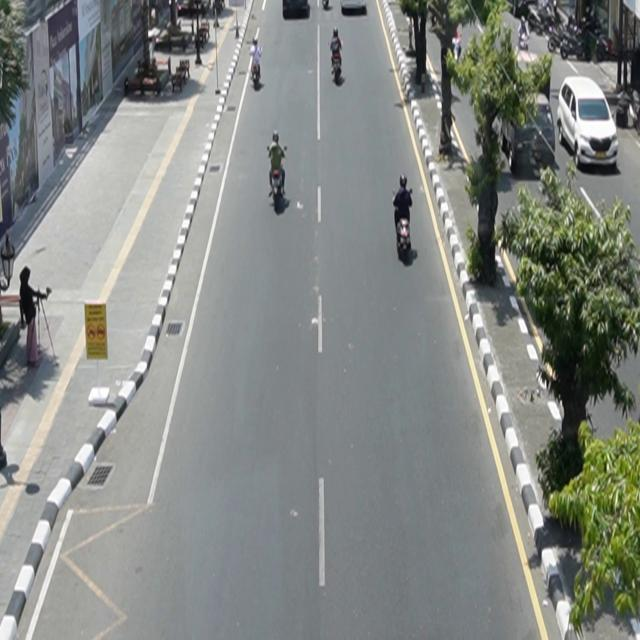car: (558, 76, 619, 170), (502, 93, 557, 174)
